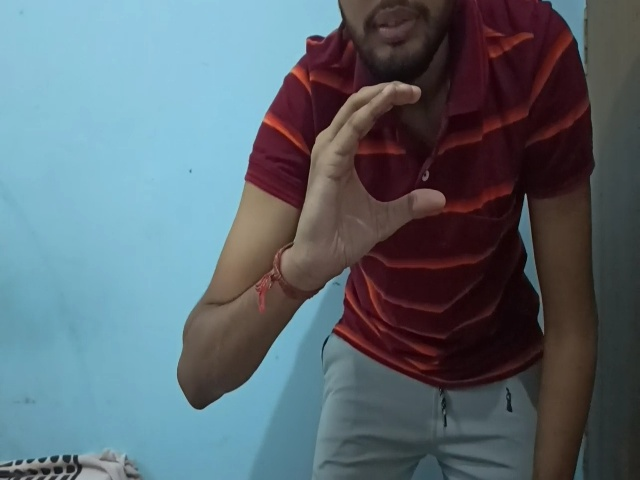C: (287, 79, 446, 292)
